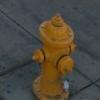Hydrant: (27, 8, 87, 100)
